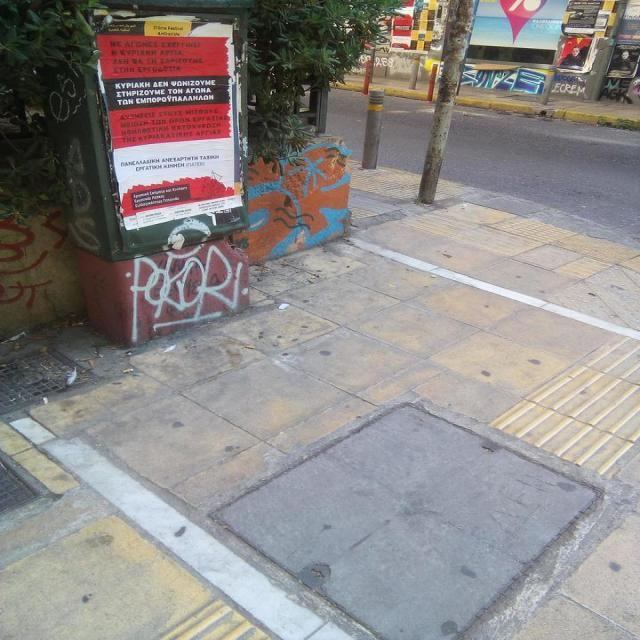nonspitting: (236, 142, 348, 259), (130, 245, 242, 342), (1, 210, 64, 310), (66, 138, 102, 250), (47, 54, 89, 122)
